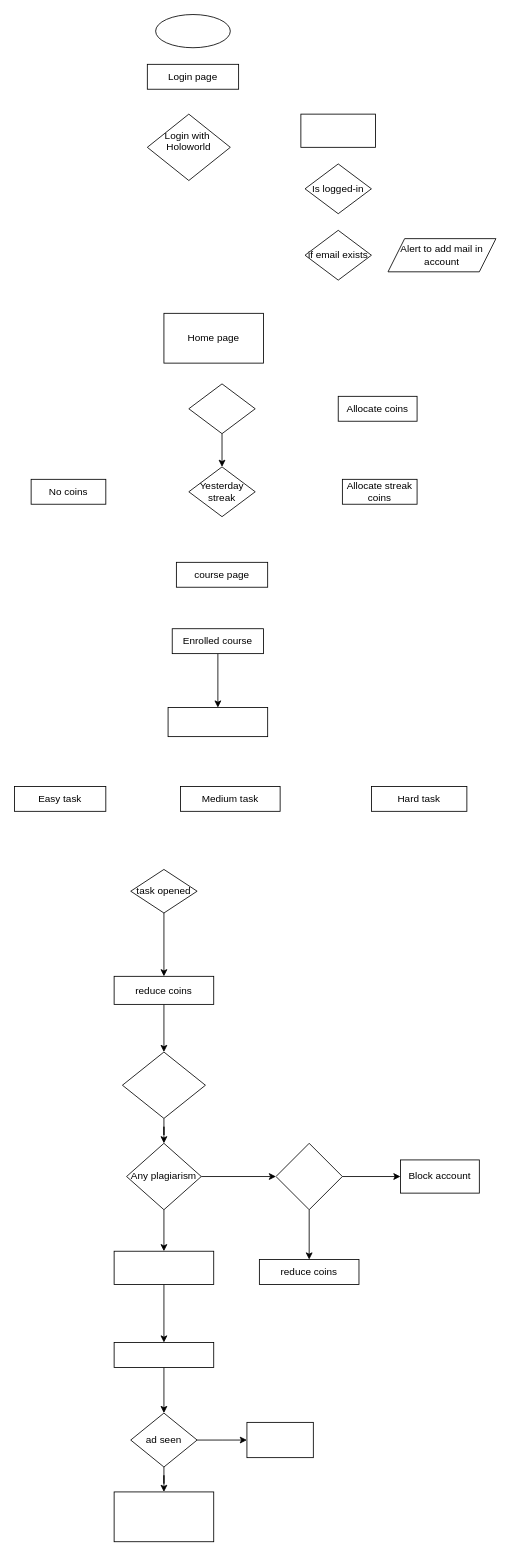
The diagram is 510 pixels wide and 1556 high, and some of its shapes have lost their labels. The shapes that lost their labels are listed below. From the top down, each one's centre as x and y in pixels, then its label:
At point 192,31: "Start".
At point 338,130: "Social-media-login-page".
At point 221,408: "New user?".
At point 217,722: "Show tasks".
At point 163,1084: "task accomplished".
At point 308,1176: "plag-count>3".
At point 163,1267: "Give coins".
At point 163,1354: "Show rewarded video".
At point 279,1440: "keep same".
At point 163,1516: "2x task-won-coins".
